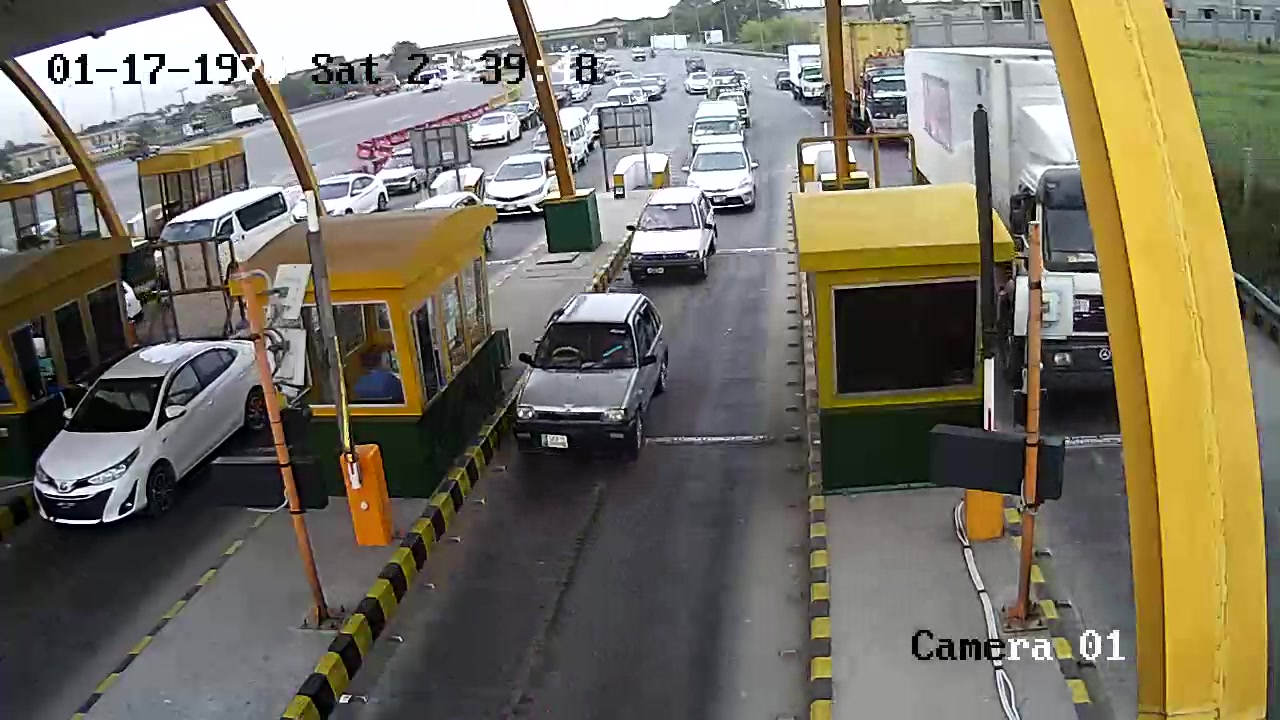F1: (510, 290, 678, 472), (621, 182, 718, 290)
